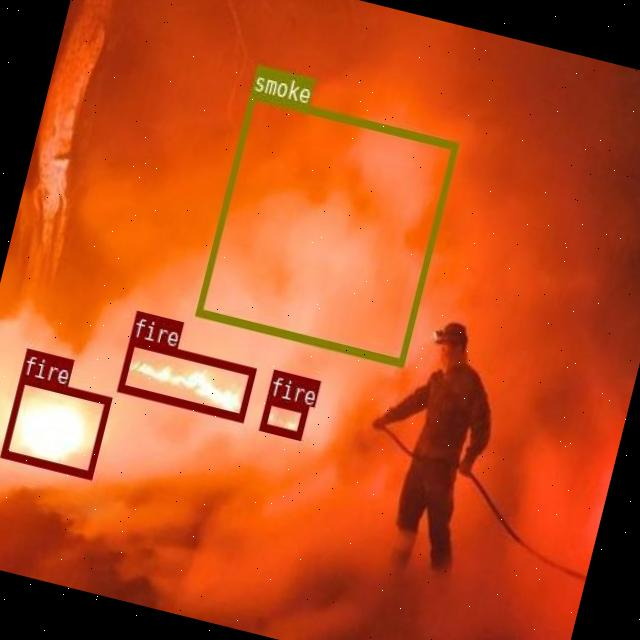fire: (116, 336, 256, 422), (0, 373, 110, 478), (259, 396, 307, 438)
smoke: (194, 90, 458, 365)
